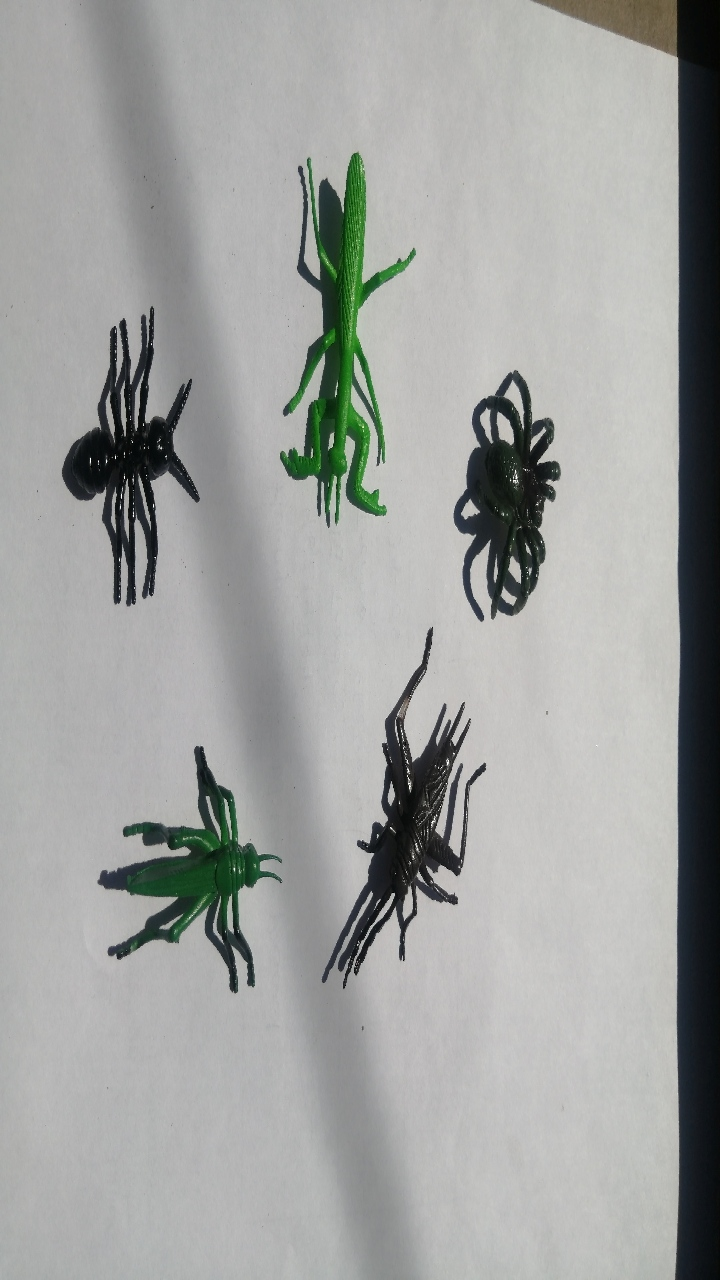intruso: (28, 269, 238, 635), (269, 100, 437, 549), (324, 609, 491, 1022), (78, 720, 288, 1035), (435, 317, 580, 649)
